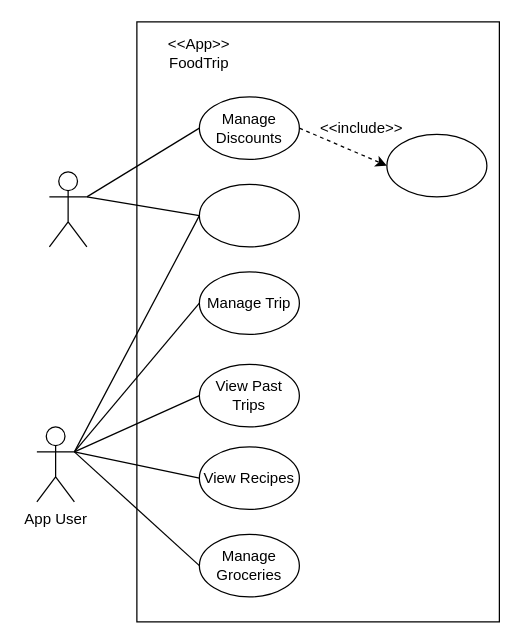
The diagram is 521 pixels wide and 644 high, and some of its shapes have lost their labels. Each missing label, with the centre of its shape:
Grocery Store: point 67,209
Manage Account: point 248,215
Notification (live update): point 436,165
